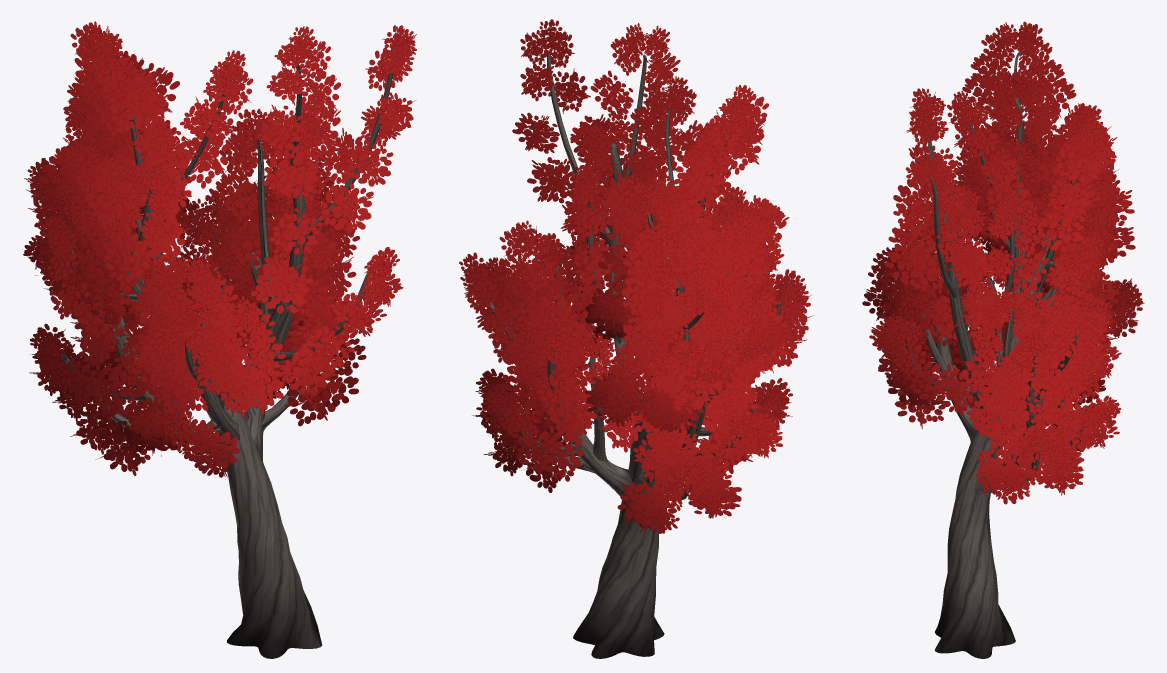
File: nature-twistedtree-2.glb
3 views of the same model, side by side, from view 1: azimuth 30°, elevation 25°; view 2: azimuth 150°, elevation 25°; view 3: azimuth 270°, elevation 25° (orthographic). The views are drawn at different scales.
Visible parts, largest first — view 1: TwistedTree_2; view 2: TwistedTree_2; view 3: TwistedTree_2.
Boxes of the visible parts, x1,y1,x2,y2 form: TwistedTree_2: [23, 21, 416, 658]; TwistedTree_2: [459, 19, 814, 658]; TwistedTree_2: [862, 21, 1144, 658].
Bounding box in the file's own units: 10.56 × 18.95 × 9.2.
Materials: 2 (2 with a texture image).
